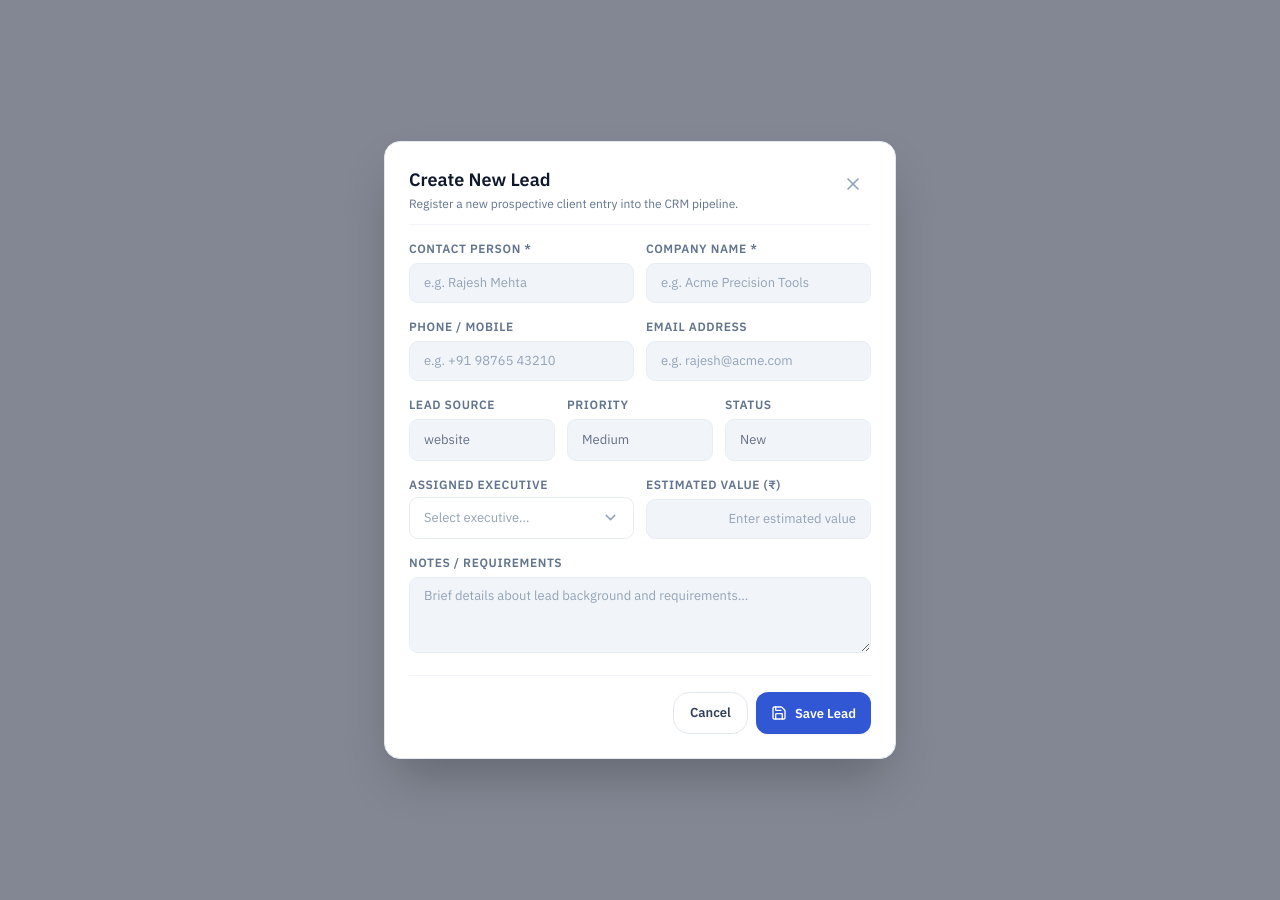
CreateLeadModal assigned executive › clears selection without removing executive from list
Click the button "Select executive…" at (522, 518), box x1=409 y1=497 x2=634 y2=539
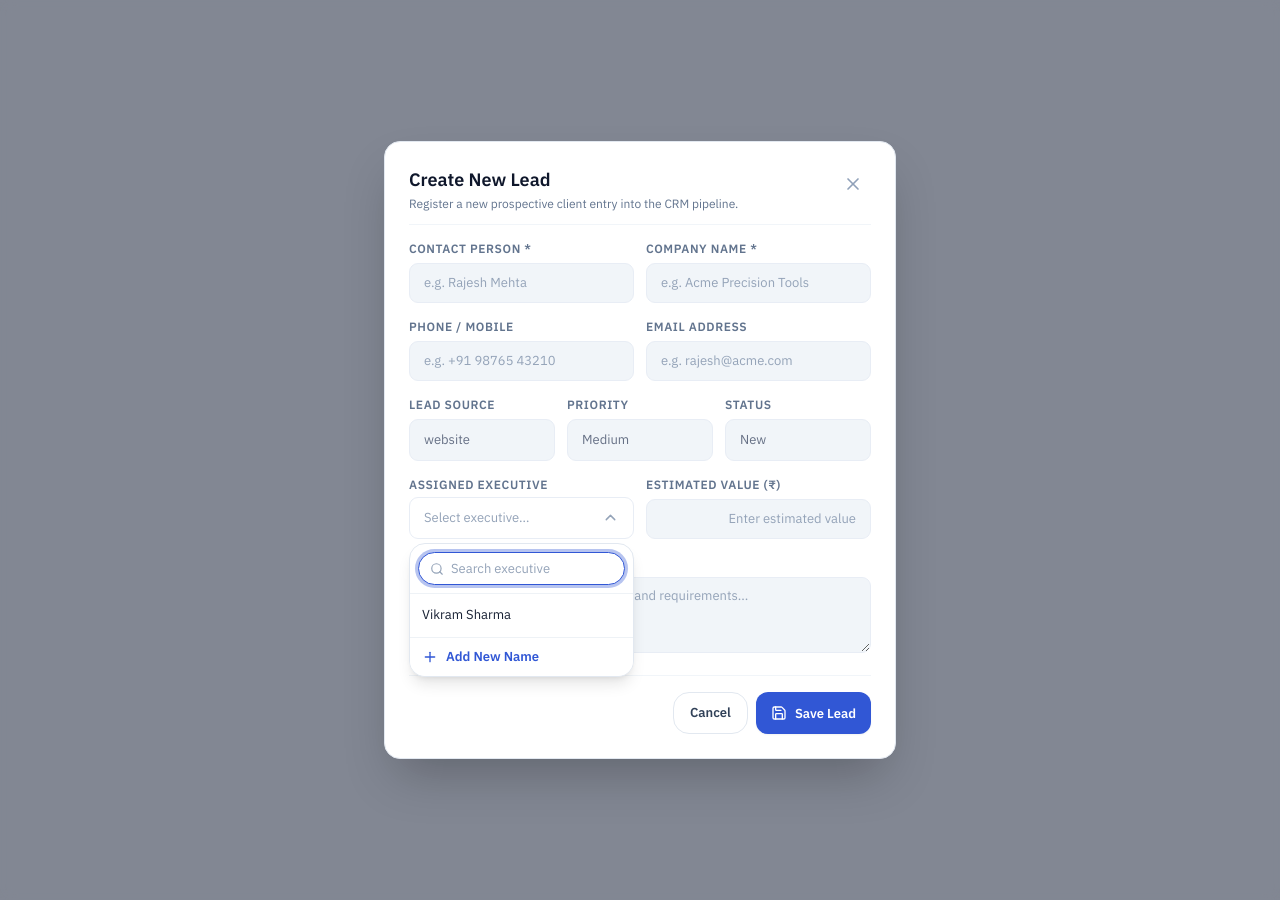
Click the option "Vikram Sharma" at (522, 616), box x1=410 y1=598 x2=633 y2=633
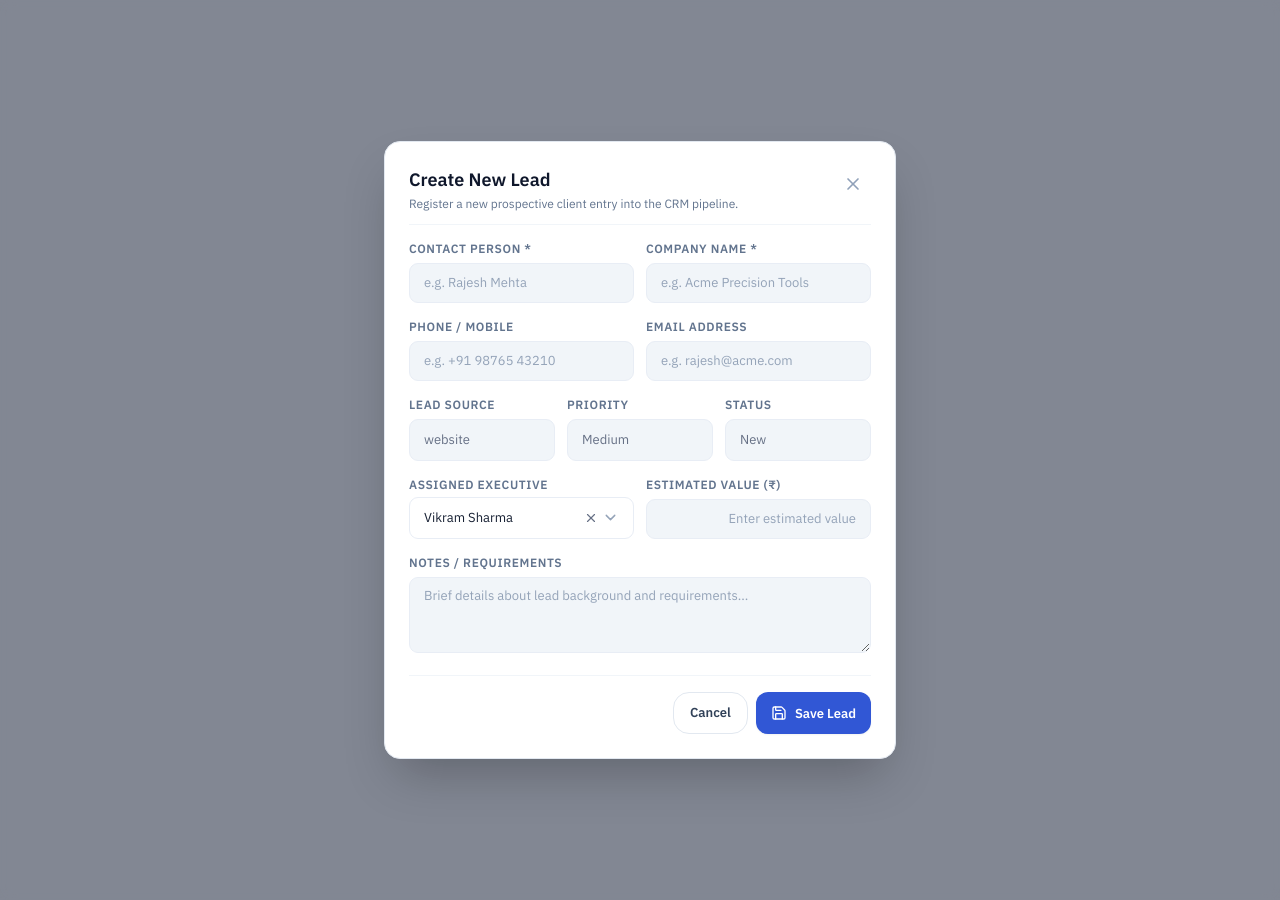
Click the button named "Clear assigned executive" at (591, 518), box x1=584 y1=511 x2=598 y2=525
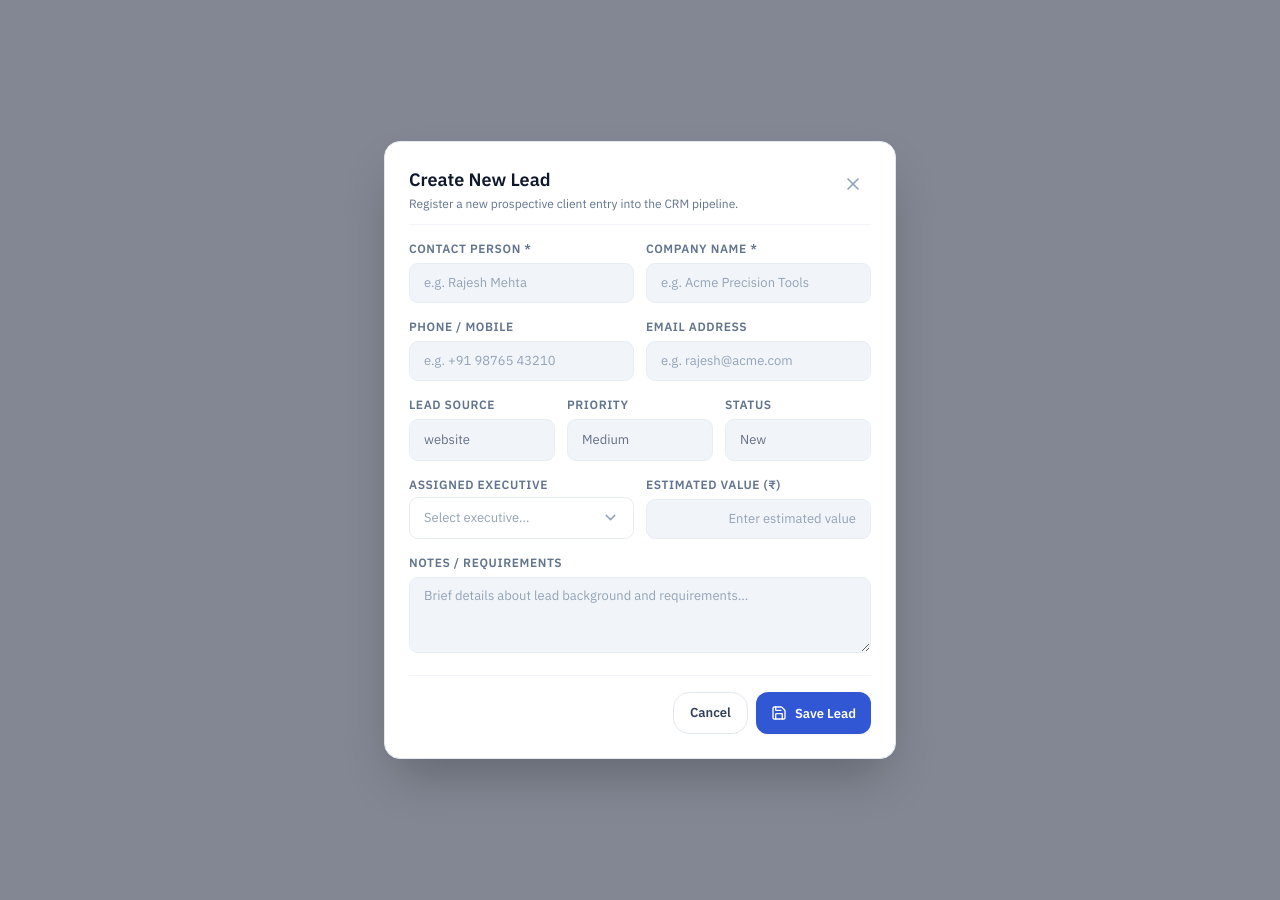
Result: the button "Select executive…" is shown
Click the button "Select executive…" at (522, 518), box x1=409 y1=497 x2=634 y2=539
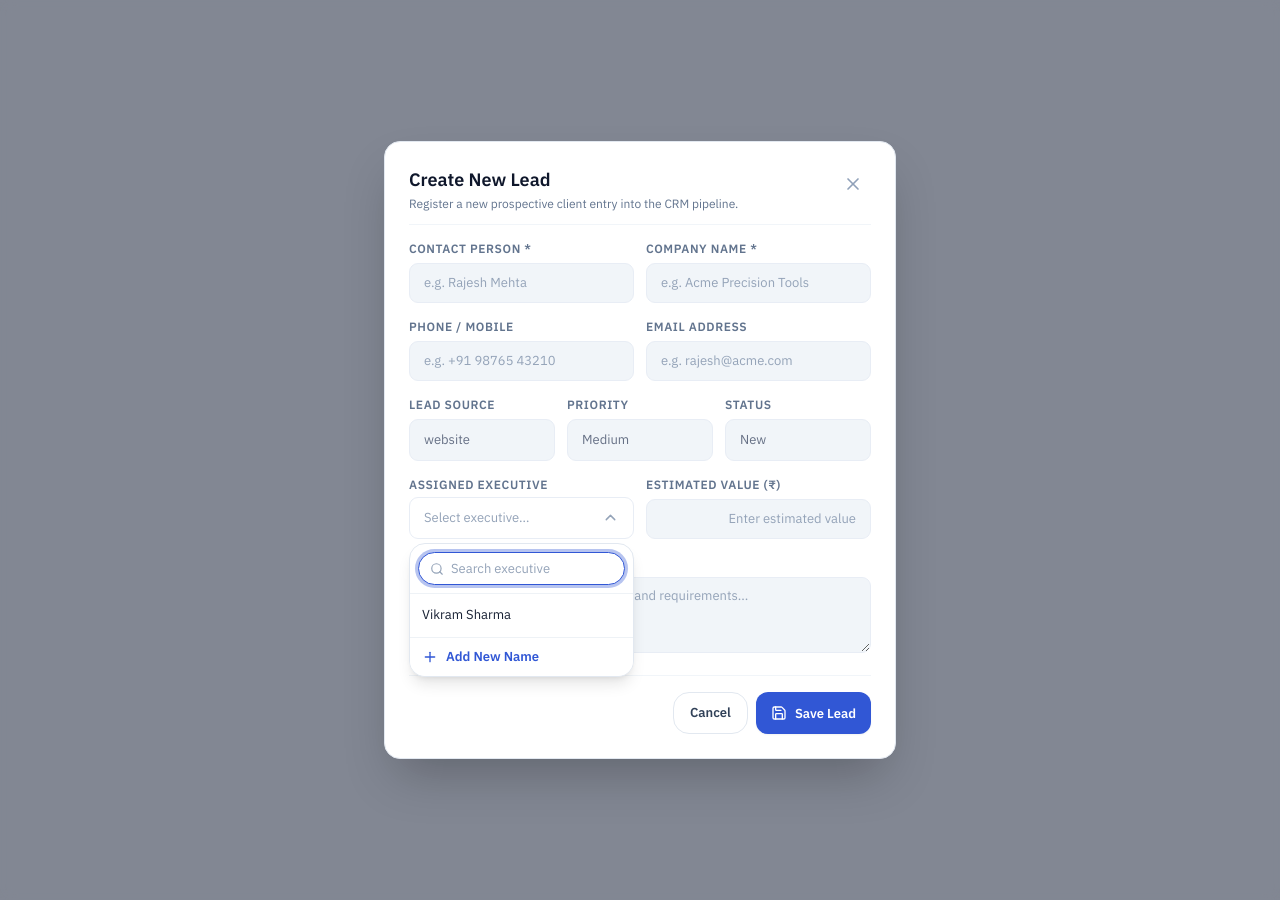
Result: the text "Vikram Sharma" is shown at x1=422 y1=606 x2=511 y2=625
